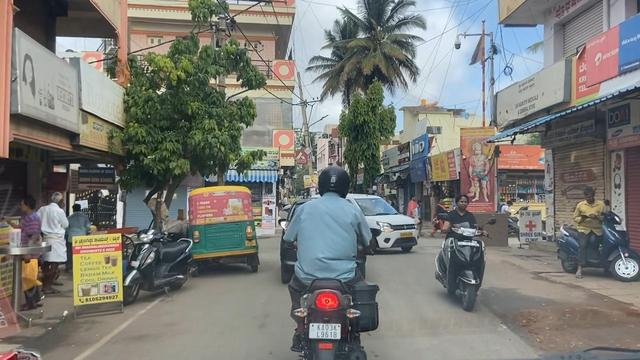LMV: (293, 159, 368, 360), (186, 191, 254, 277), (441, 199, 488, 309)
RoadDamages: (508, 297, 640, 360)
